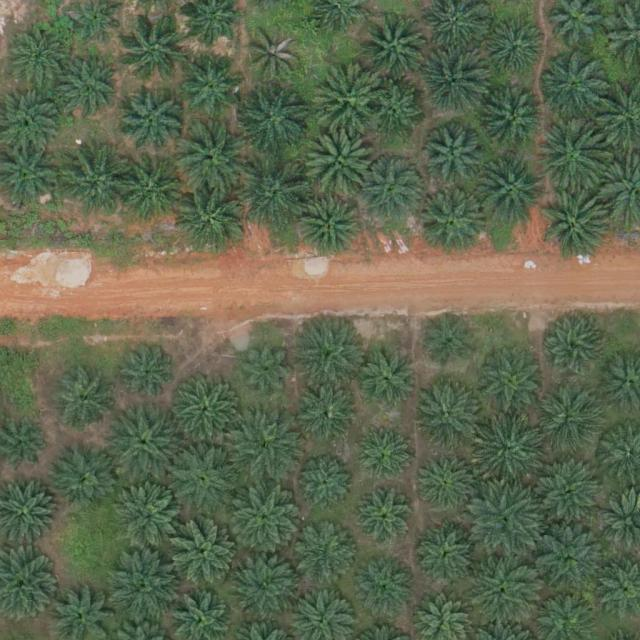Dead: (248, 29, 303, 84)
Healthy: (470, 489, 541, 560), (467, 556, 538, 627), (419, 47, 490, 118), (474, 156, 545, 227), (232, 486, 302, 557), (232, 551, 302, 622), (167, 443, 237, 514), (113, 407, 183, 478), (114, 483, 185, 553), (536, 521, 606, 592), (474, 347, 544, 418), (409, 381, 479, 452), (294, 315, 364, 386), (535, 123, 605, 194), (539, 50, 609, 121), (420, 186, 490, 257), (360, 12, 430, 83), (312, 64, 382, 135), (304, 125, 374, 196), (240, 84, 310, 155), (177, 185, 247, 256), (122, 11, 192, 82), (58, 147, 128, 218), (232, 414, 302, 484), (168, 520, 238, 590), (168, 377, 238, 447), (111, 555, 181, 625), (474, 419, 544, 489), (346, 555, 416, 625), (288, 522, 358, 592), (542, 192, 612, 262), (242, 160, 312, 230), (176, 123, 246, 193), (114, 159, 184, 229), (539, 459, 602, 522), (417, 525, 480, 588), (355, 486, 418, 549), (357, 344, 420, 407), (295, 385, 358, 448), (117, 341, 179, 404), (51, 449, 113, 512), (54, 372, 116, 435), (542, 315, 604, 378), (486, 19, 548, 82), (423, 129, 485, 192), (361, 156, 423, 219), (298, 195, 360, 258), (119, 89, 181, 152), (56, 59, 118, 122), (535, 389, 597, 451), (353, 422, 415, 484), (484, 92, 546, 154), (180, 53, 242, 115), (8, 26, 70, 88), (242, 343, 297, 398), (423, 313, 478, 368), (418, 456, 473, 511), (368, 84, 423, 139), (302, 459, 356, 514)
